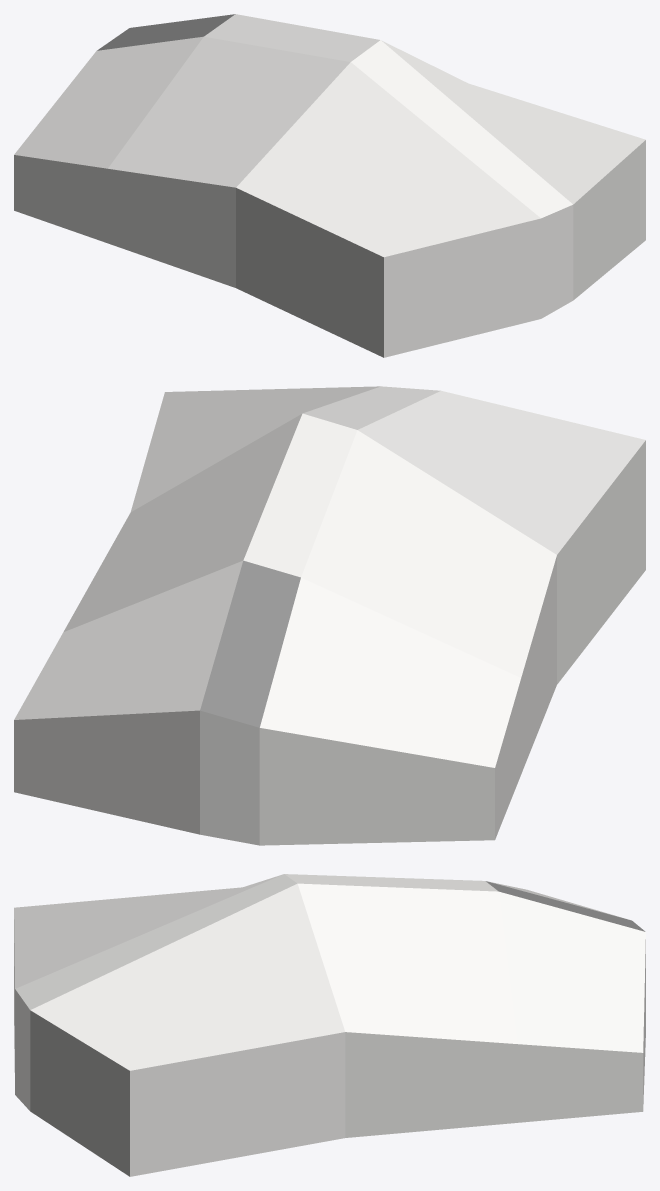
The model's file is Mouse_1.fbx.
3 views of the same model, one above another, from view 1: azimuth 30°, elevation 25°; view 2: azimuth 150°, elevation 25°; view 3: azimuth 270°, elevation 25° (orthographic). The views are drawn at different scales.
Parts seen in each view (by area): view 1: Mouse_1; view 2: Mouse_1; view 3: Mouse_1.
Part boxes in pixels (x1=…): Mouse_1: x1=14, y1=14, x2=645, y2=357; Mouse_1: x1=14, y1=386, x2=645, y2=845; Mouse_1: x1=14, y1=874, x2=645, y2=1176.
Size of the model in its own units: 16.25 by 19.01 by 6.56.
